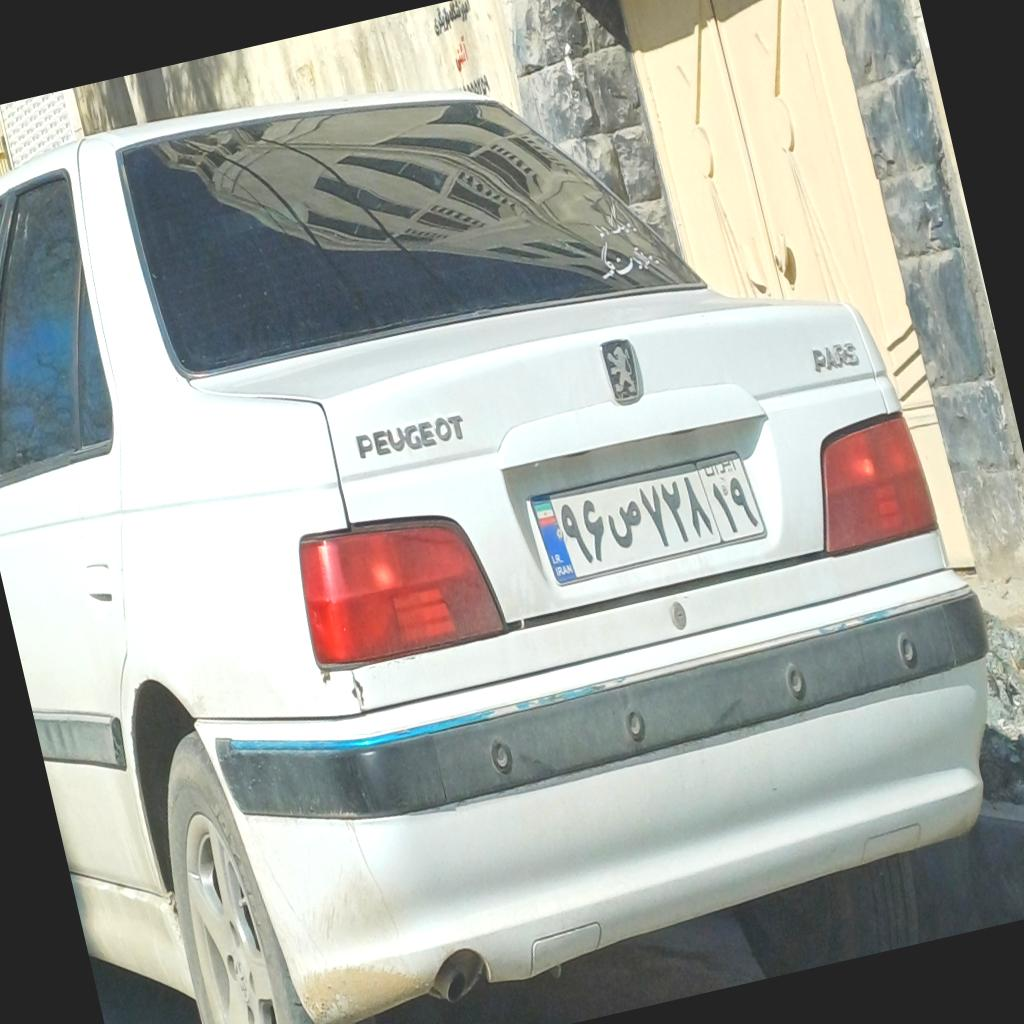Plates: (530, 447, 766, 585)
